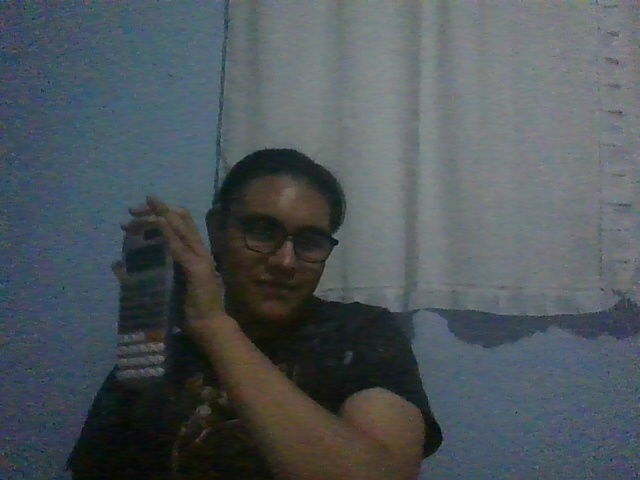calculadora: (114, 218, 180, 385)
